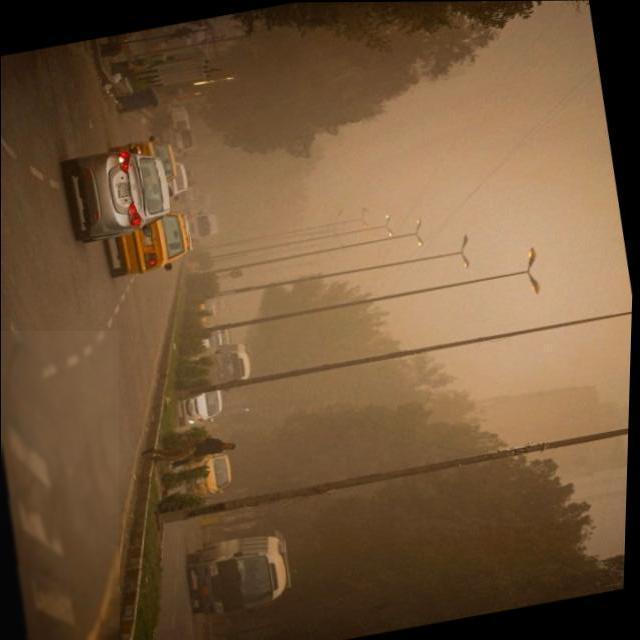Speed Bump: (0, 331, 119, 640)
